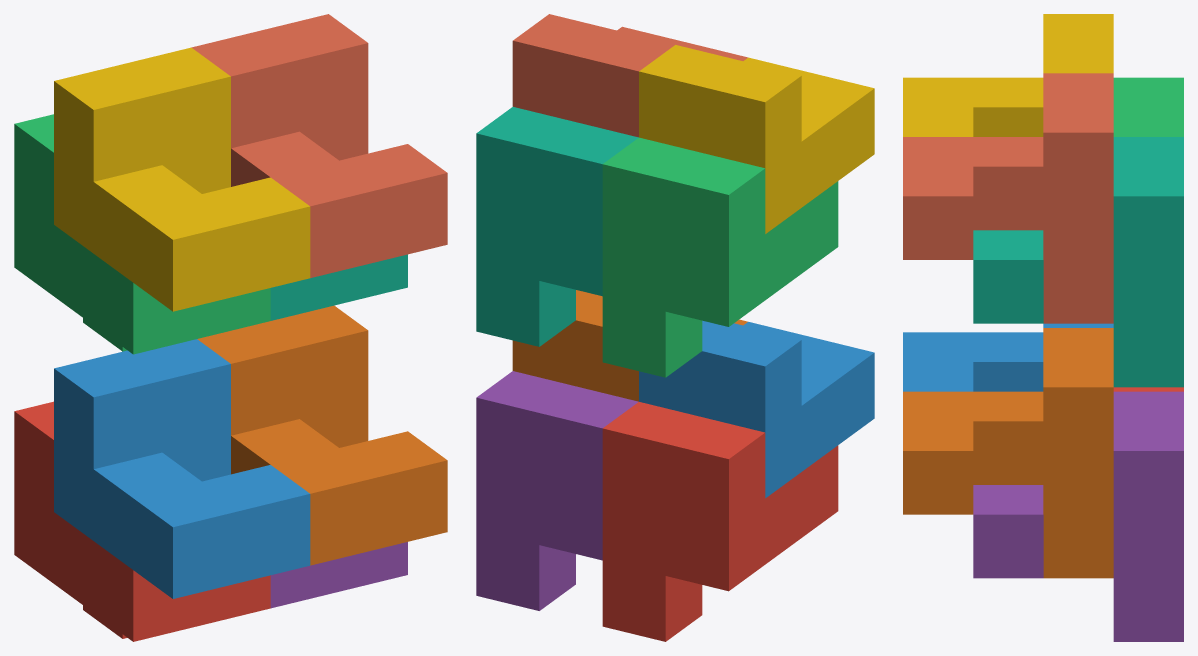
Rendered from tiling.obj.
3 renders of one model, left to right at view 1: azimuth 30°, elevation 25°; view 2: azimuth 150°, elevation 25°; view 3: azimuth 270°, elevation 25°, orthographic. The views are drawn at different scales.
Parts seen in each view (by area): view 1: copy_1_domain_4, copy_1_domain_2, copy_1_domain_8, copy_1_domain_6, copy_1_domain_3, copy_1_domain_1, copy_1_domain_7, copy_1_domain_5; view 2: copy_1_domain_1, copy_1_domain_3, copy_1_domain_7, copy_1_domain_5, copy_1_domain_4, copy_1_domain_2, copy_1_domain_8, copy_1_domain_6; view 3: copy_1_domain_6, copy_1_domain_8, copy_1_domain_5, copy_1_domain_7, copy_1_domain_4, copy_1_domain_2, copy_1_domain_3.
Boxes of the visible parts, bbox=[...] form: copy_1_domain_4: bbox=[54, 47, 310, 311]; copy_1_domain_2: bbox=[54, 339, 310, 598]; copy_1_domain_8: bbox=[191, 14, 447, 277]; copy_1_domain_6: bbox=[197, 305, 447, 565]; copy_1_domain_3: bbox=[14, 114, 270, 354]; copy_1_domain_1: bbox=[14, 401, 270, 641]; copy_1_domain_7: bbox=[270, 254, 407, 320]; copy_1_domain_5: bbox=[270, 542, 407, 608]; copy_1_domain_1: bbox=[602, 402, 838, 641]; copy_1_domain_3: bbox=[602, 137, 838, 377]; copy_1_domain_7: bbox=[476, 107, 638, 346]; copy_1_domain_5: bbox=[476, 371, 638, 610]; copy_1_domain_4: bbox=[639, 45, 874, 233]; copy_1_domain_2: bbox=[639, 320, 874, 498]; copy_1_domain_8: bbox=[512, 14, 747, 137]; copy_1_domain_6: bbox=[512, 290, 747, 401]; copy_1_domain_6: bbox=[903, 328, 1113, 578]; copy_1_domain_8: bbox=[903, 73, 1113, 323]; copy_1_domain_5: bbox=[973, 391, 1183, 641]; copy_1_domain_7: bbox=[973, 137, 1183, 387]; copy_1_domain_4: bbox=[903, 14, 1113, 136]; copy_1_domain_2: bbox=[903, 323, 1113, 391]; copy_1_domain_3: bbox=[1113, 77, 1183, 136].
Size of the model in its own units: 4 by 8 by 4.
